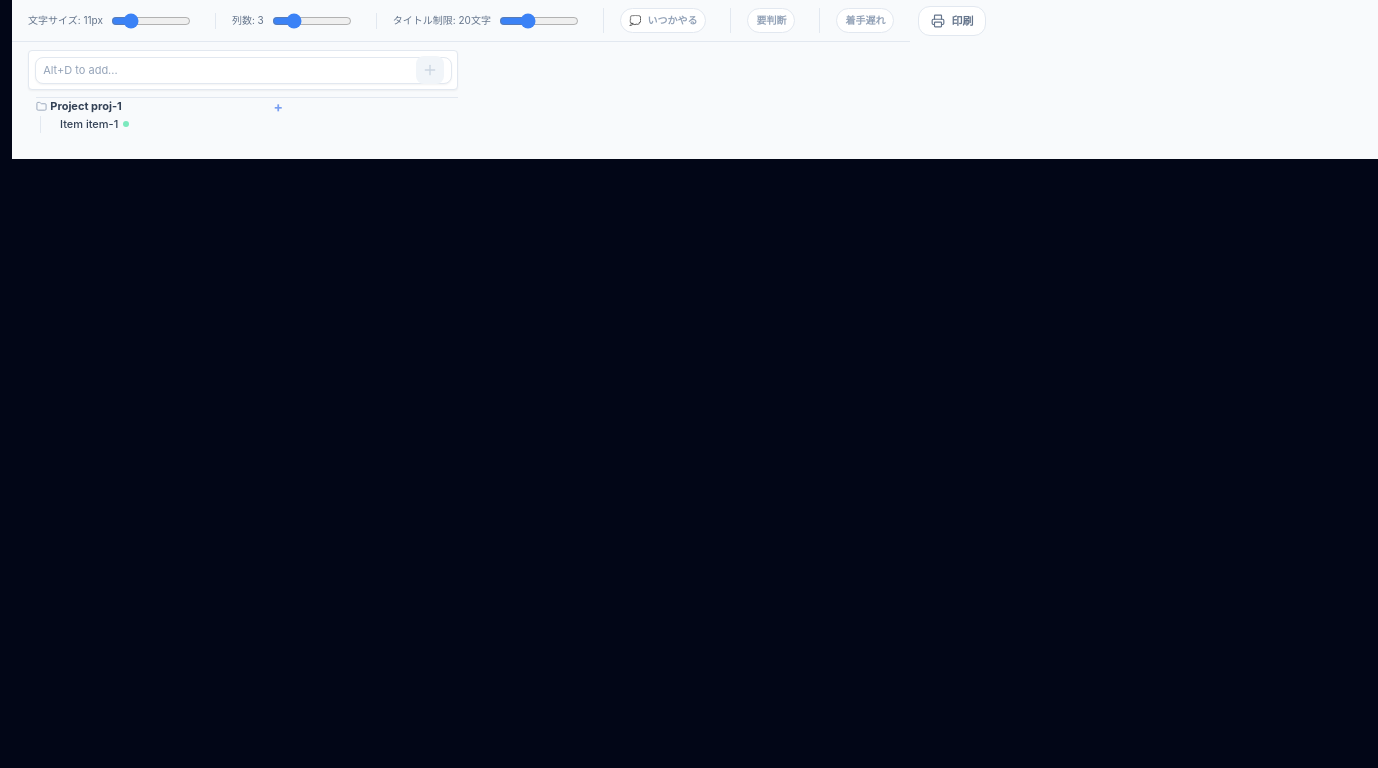
Test: R-092: OverviewBoard 右クリックメニュー（ガント同等） › 既存項目を維持したまま前後挿入が追加されたメニューが表示される
Step 1. Right-click the text "Item item-1" → (89, 124), box left=60, top=118, right=118, bottom=131
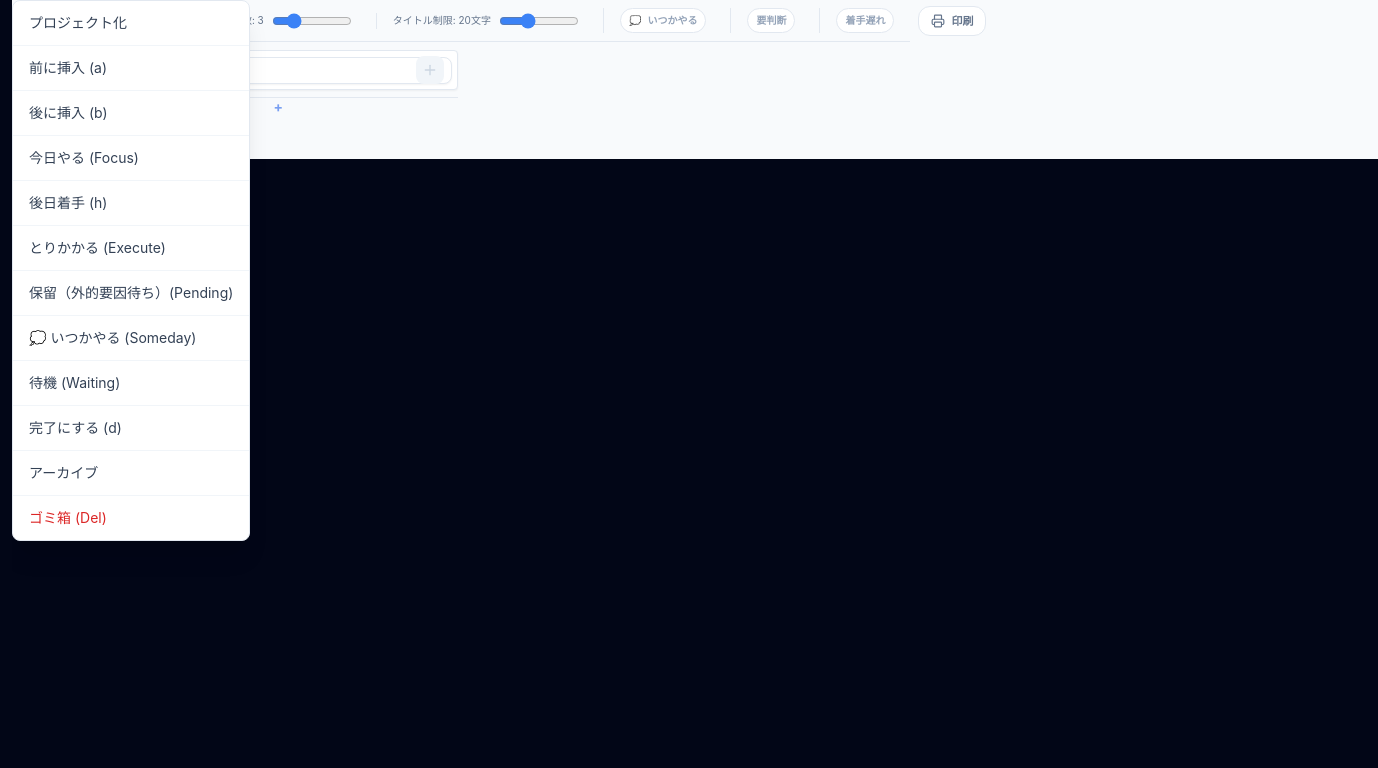
Now the button "プロジェクト化" is shown, box left=13, top=5, right=249, bottom=41
Now the button "今日やる (Focus)" is shown, box left=13, top=140, right=249, bottom=176
Now the button "とりかかる (Execute)" is shown, box left=13, top=230, right=249, bottom=266
